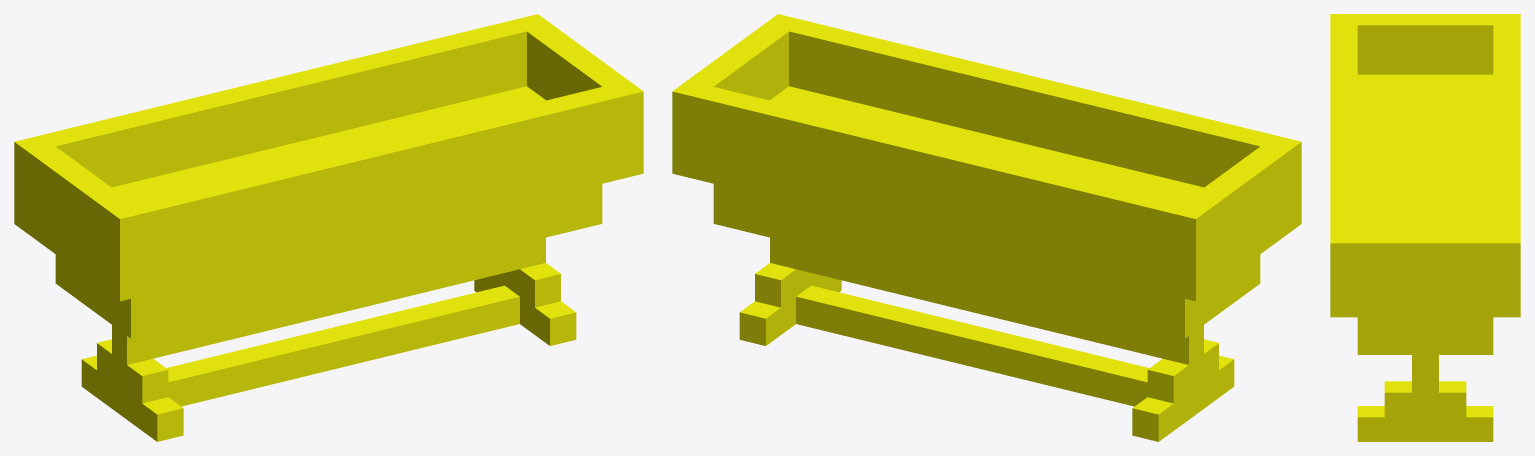
Rendered from voxel-farm-water-trough.glb.
The picture shows the model from 3 angles, left to right: view 1: azimuth 30°, elevation 25°; view 2: azimuth 150°, elevation 25°; view 3: azimuth 270°, elevation 25°; orthographic projection. The views are drawn at different scales.
Visible parts, largest first — view 1: VS_Farm_Trough_Water; view 2: VS_Farm_Trough_Water; view 3: VS_Farm_Trough_Water.
Boxes of the visible parts, left/top/right/bottom form: VS_Farm_Trough_Water: left=14, top=14, right=643, bottom=441; VS_Farm_Trough_Water: left=672, top=14, right=1301, bottom=441; VS_Farm_Trough_Water: left=1330, top=14, right=1520, bottom=441.
Bounding box in the file's own units: 2 × 0.9 × 0.7.
